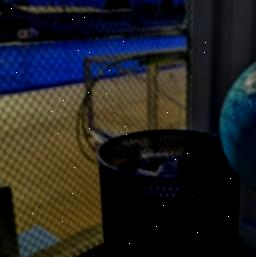algae: (219, 46, 256, 203)
